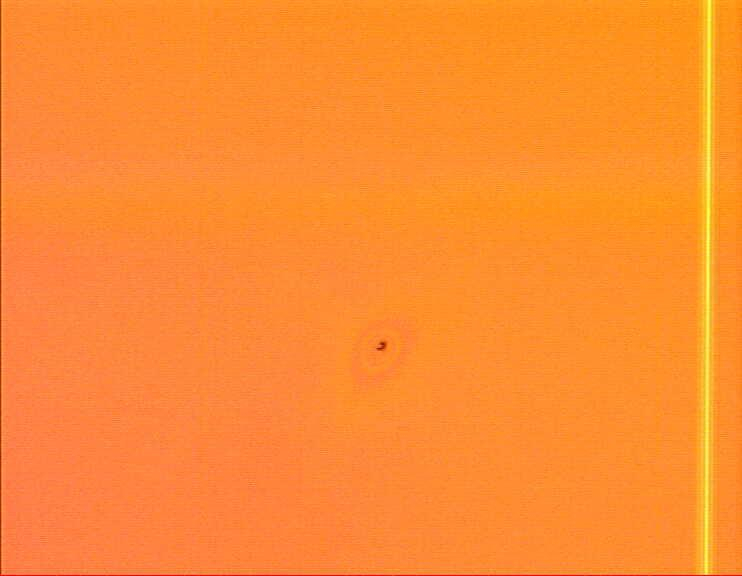PIQ PARTICLE: (372, 336, 392, 356)
